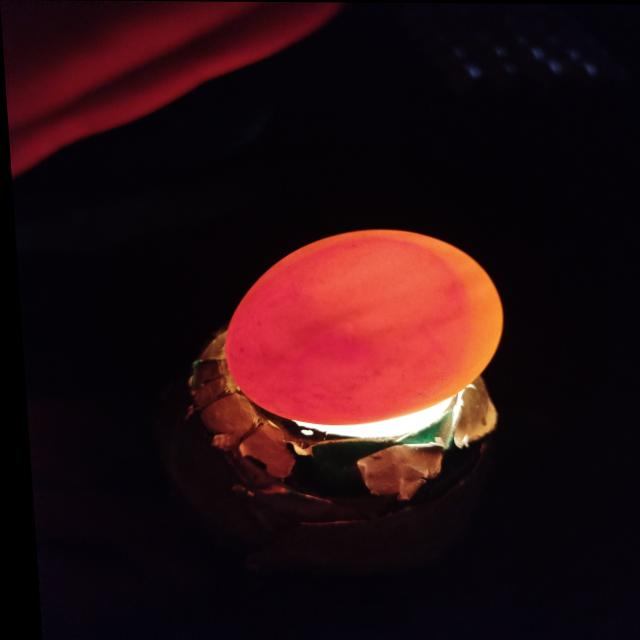Gema Quebrada: (221, 236, 466, 424)
